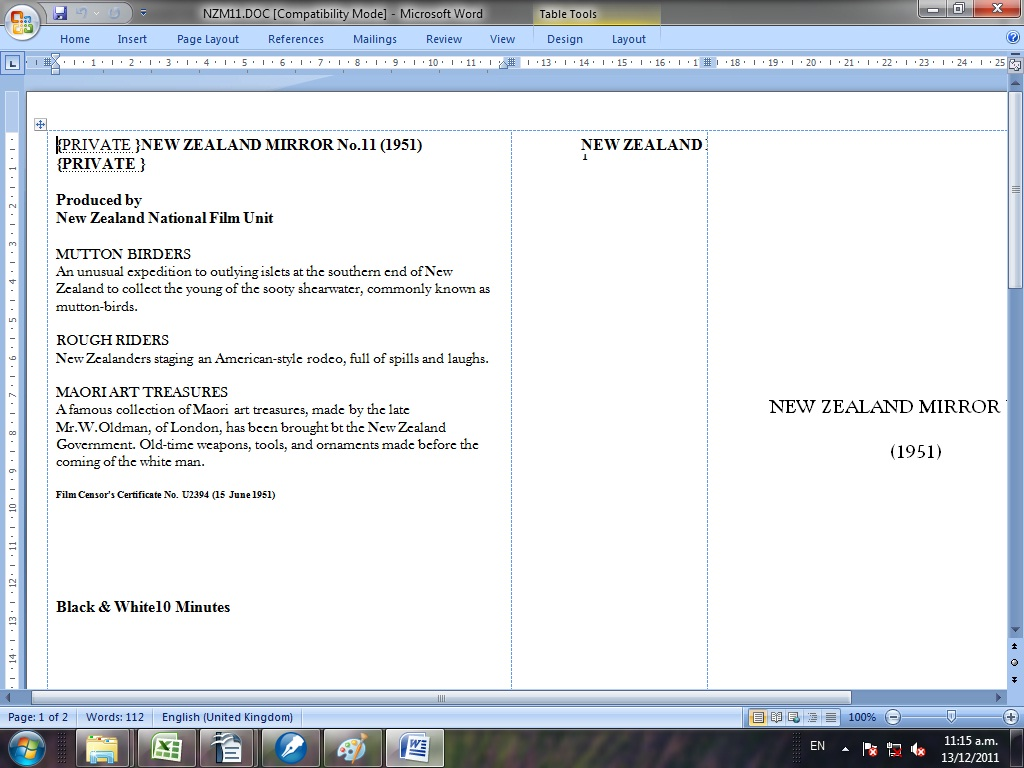button: (31, 690, 852, 706), (1009, 91, 1024, 290), (74, 728, 132, 768), (137, 728, 195, 768), (198, 728, 256, 768), (261, 728, 319, 768), (323, 728, 381, 768), (385, 728, 443, 768), (938, 732, 1002, 764), (7, 730, 48, 768), (4, 5, 41, 40), (175, 32, 240, 47), (266, 32, 326, 47), (974, 1, 1022, 19), (544, 30, 586, 47), (351, 32, 398, 47), (610, 31, 651, 47), (423, 32, 465, 47), (1009, 730, 1024, 768), (1, 52, 26, 74), (917, 1, 946, 19), (947, 1, 974, 19), (116, 32, 148, 46), (487, 32, 518, 46), (860, 739, 880, 759), (58, 33, 91, 45), (884, 740, 903, 760), (908, 740, 927, 760), (1001, 708, 1020, 726), (748, 709, 767, 727), (767, 709, 786, 727), (802, 709, 821, 727), (821, 709, 840, 727), (50, 4, 68, 22), (884, 708, 902, 726), (990, 689, 1008, 706), (786, 709, 802, 728), (1007, 73, 1023, 91), (1, 690, 18, 706), (808, 738, 826, 753), (73, 5, 89, 21), (107, 6, 123, 22), (1007, 59, 1023, 73), (945, 708, 958, 725), (1008, 623, 1024, 636), (1006, 30, 1020, 44), (1010, 640, 1020, 653), (1009, 674, 1020, 685), (1009, 658, 1021, 668), (839, 744, 851, 754), (137, 8, 148, 18), (50, 67, 61, 76), (50, 52, 60, 61), (90, 9, 101, 17), (498, 62, 509, 70), (50, 60, 60, 68)
common: (160, 709, 296, 726), (7, 709, 72, 725), (537, 7, 599, 22), (83, 710, 145, 725), (848, 710, 877, 724)
container: (1, 1, 1024, 730), (24, 89, 1008, 688), (1, 728, 1024, 768), (1, 1, 1024, 26), (1, 27, 1024, 49), (1, 706, 1024, 728), (1, 688, 1009, 706), (25, 55, 1007, 69), (4, 90, 20, 690), (1008, 73, 1024, 638), (800, 731, 1011, 768), (532, 1, 661, 51), (846, 707, 1024, 729), (883, 708, 1024, 727), (42, 2, 133, 23), (748, 709, 841, 728), (73, 4, 103, 22)
header: (201, 7, 484, 20)
text-input: (51, 132, 509, 688), (710, 132, 1005, 685), (514, 132, 705, 686)
